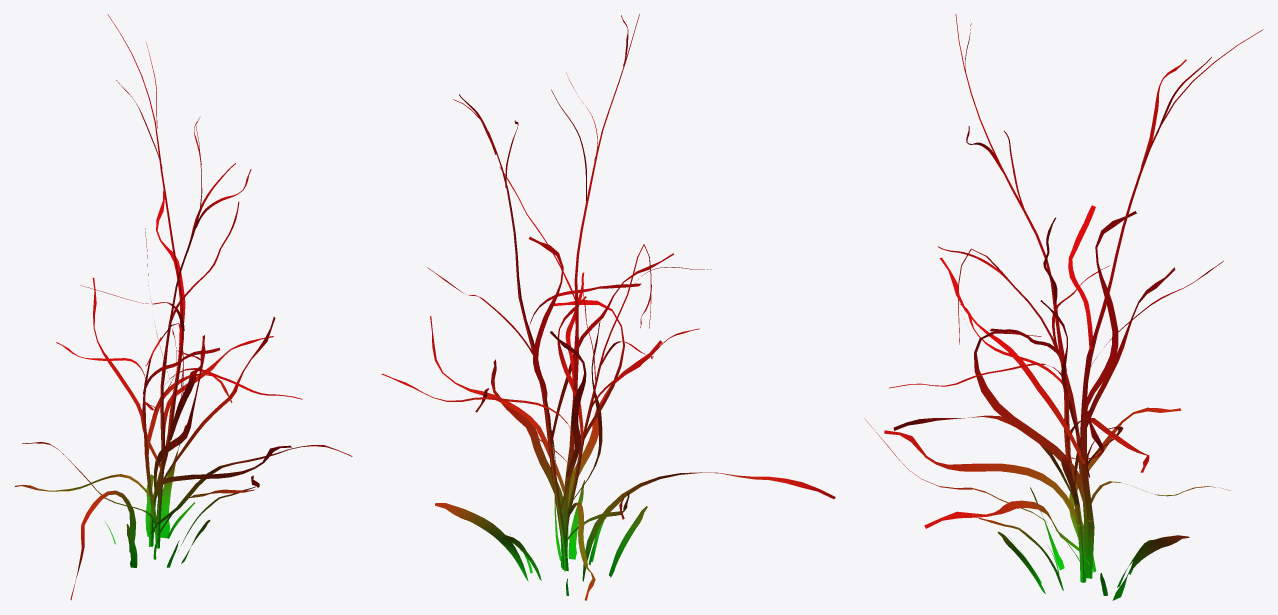
File: Swamp Grass_LOD1_Var6_tefocd1r.fbx
3 renders of one model, left to right at view 1: azimuth 30°, elevation 25°; view 2: azimuth 150°, elevation 25°; view 3: azimuth 270°, elevation 25°, orthographic. The views are drawn at different scales.
Parts seen in each view (by area): view 1: merge1; view 2: merge1; view 3: merge1.
Boxes of the visible parts, box(x1,y1,x2,y2) form: merge1: box(15, 14, 352, 600); merge1: box(381, 14, 835, 600); merge1: box(864, 14, 1263, 600).
Size of the model in its own units: 23.22 by 34.6 by 21.83.
